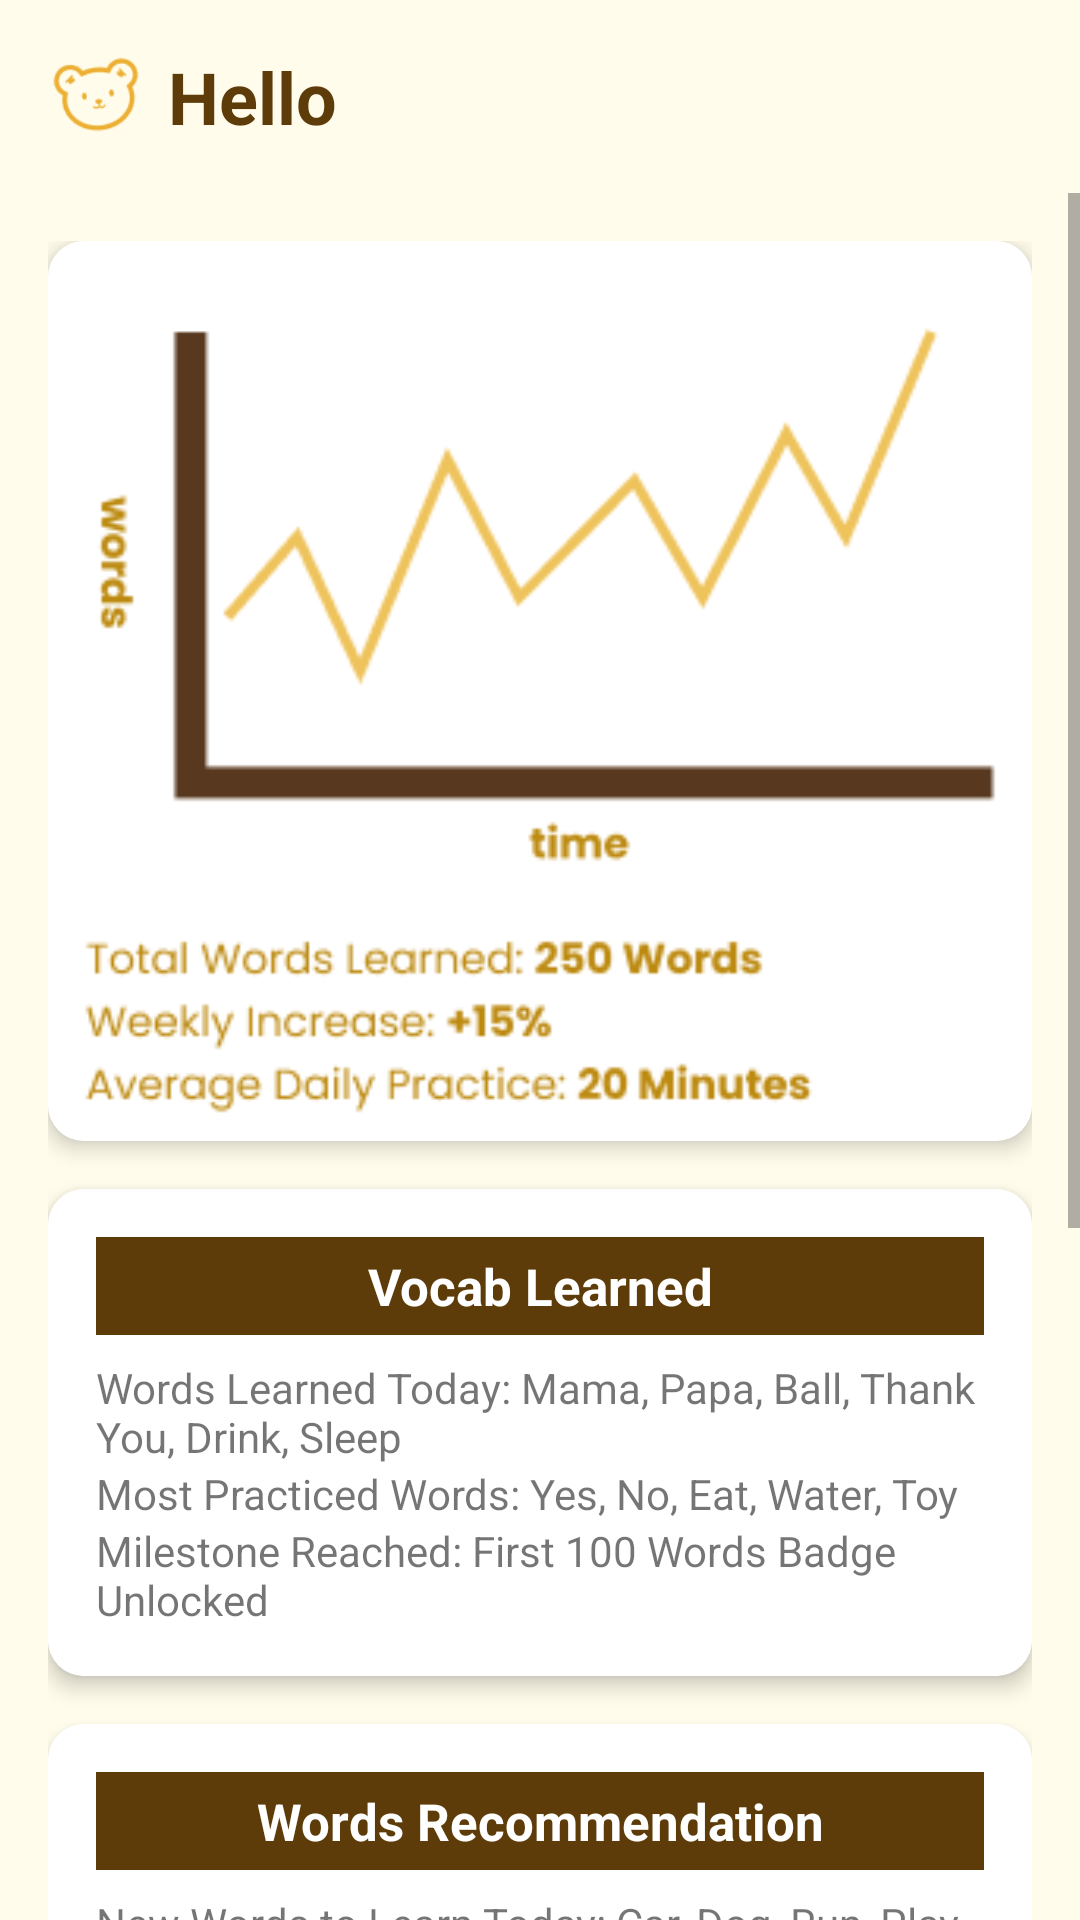

Named icons in this screenshot (1080px×1920px) and their bounding boxes, (x1, y1, x2, y2):
appicon: (53, 58, 139, 131)
